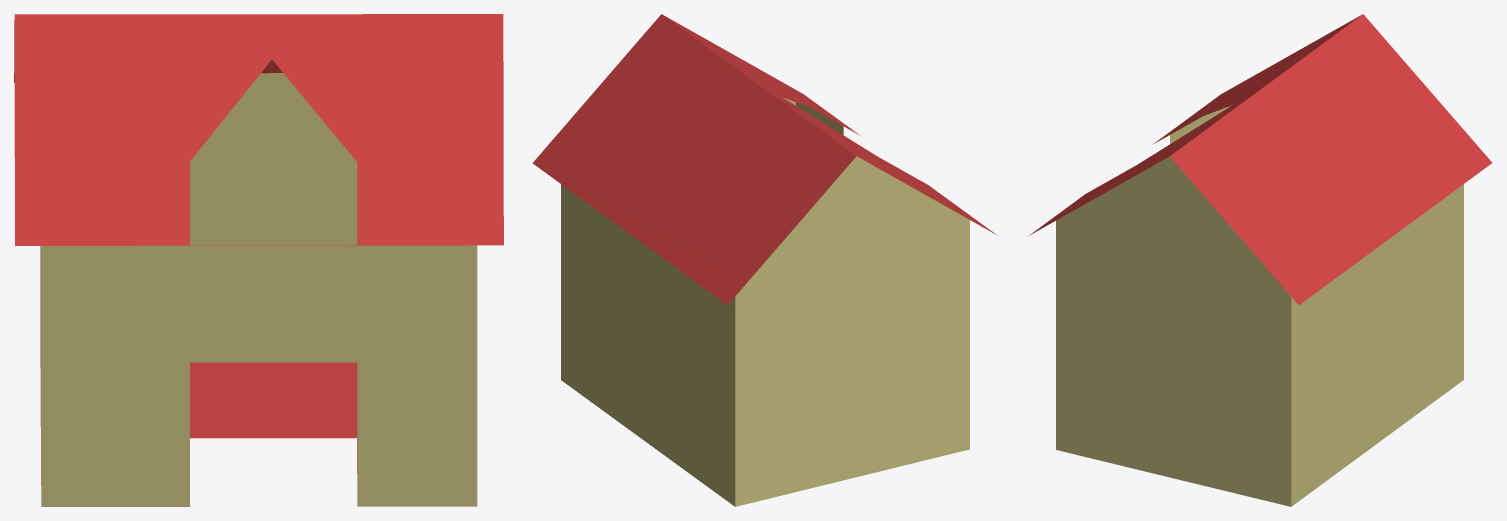
The picture shows the model from 3 angles, left to right: view 1: azimuth 30°, elevation 25°; view 2: azimuth 150°, elevation 25°; view 3: azimuth 270°, elevation 25°; orthographic projection. The views are drawn at different scales.
Bounding box in the file's own units: 17.66 × 16.66 × 13.09.
